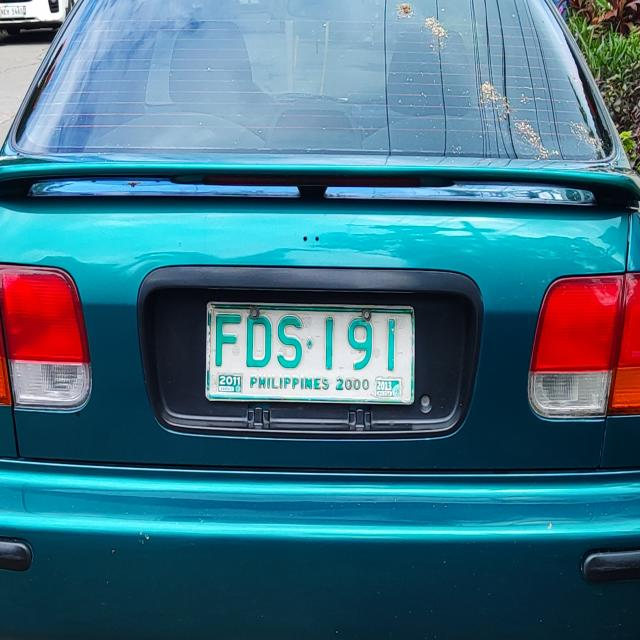plate: (204, 299, 416, 406)
